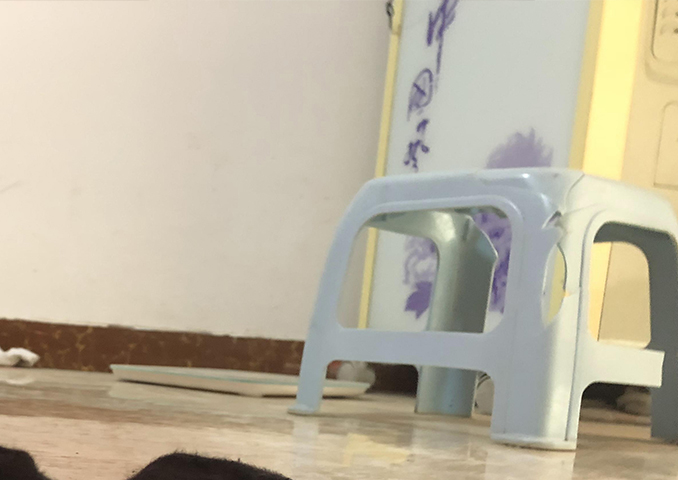stool: (287, 166, 678, 451)
